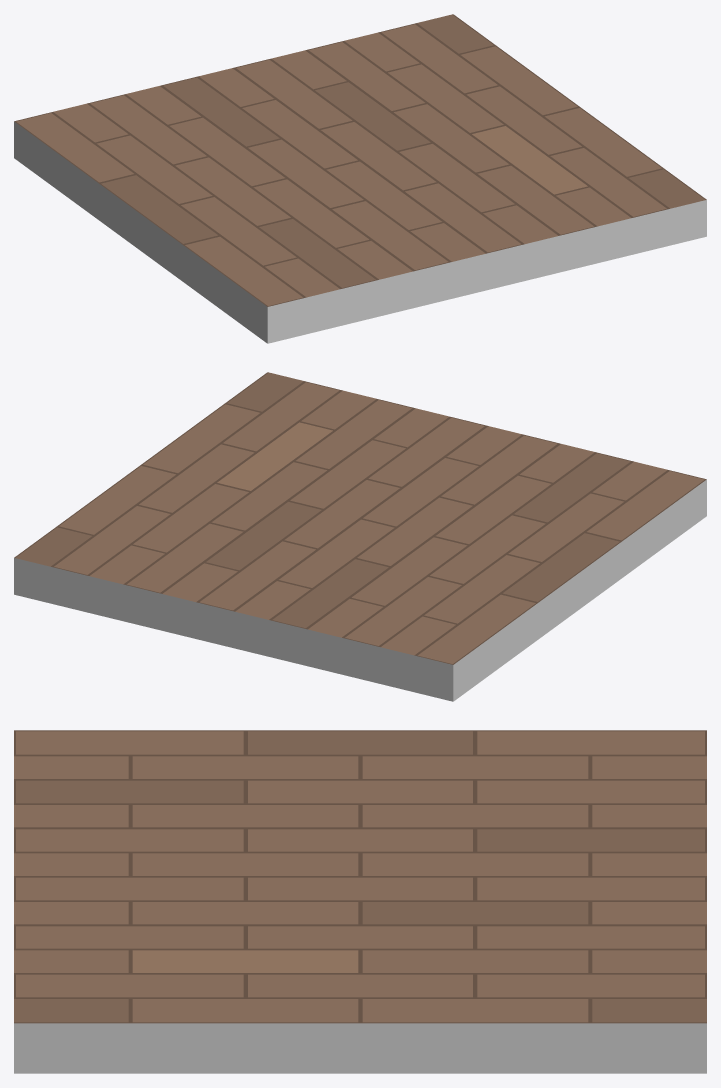
File: Floor6_01_dra.glb
The picture shows the model from 3 angles, top to bottom: view 1: azimuth 30°, elevation 25°; view 2: azimuth 150°, elevation 25°; view 3: azimuth 270°, elevation 25°; orthographic projection. The views are drawn at different scales.
Parts seen in each view (by area): view 1: Floor6_01; view 2: Floor6_01; view 3: Floor6_01.
Boxes of the visible parts, x1,y1,x2,y2 form: Floor6_01: (14, 14, 706, 343); Floor6_01: (14, 372, 706, 701); Floor6_01: (14, 730, 706, 1073).
Size of the model in its own units: 250 by 20.03 by 250.
Materials: 1 (1 with a texture image).
